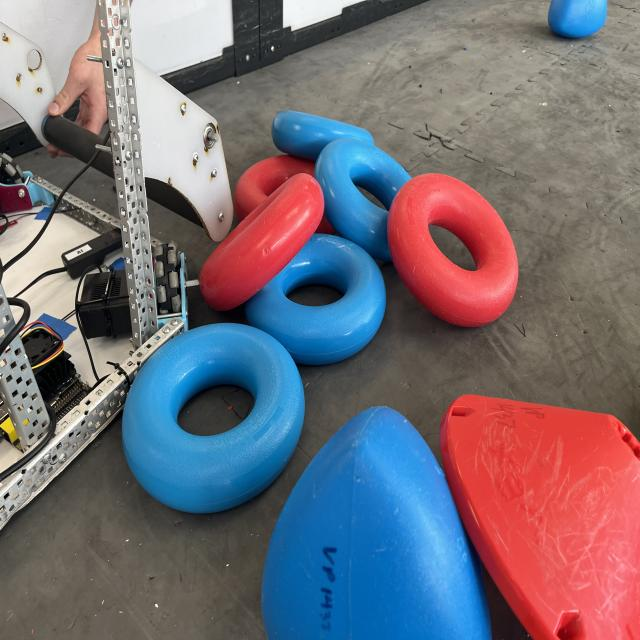Blue-Ring: (122, 323, 304, 513), (245, 235, 386, 365), (315, 138, 410, 262), (271, 110, 374, 160)
Red-Ring: (388, 173, 518, 327), (199, 173, 324, 310), (234, 155, 315, 222)
